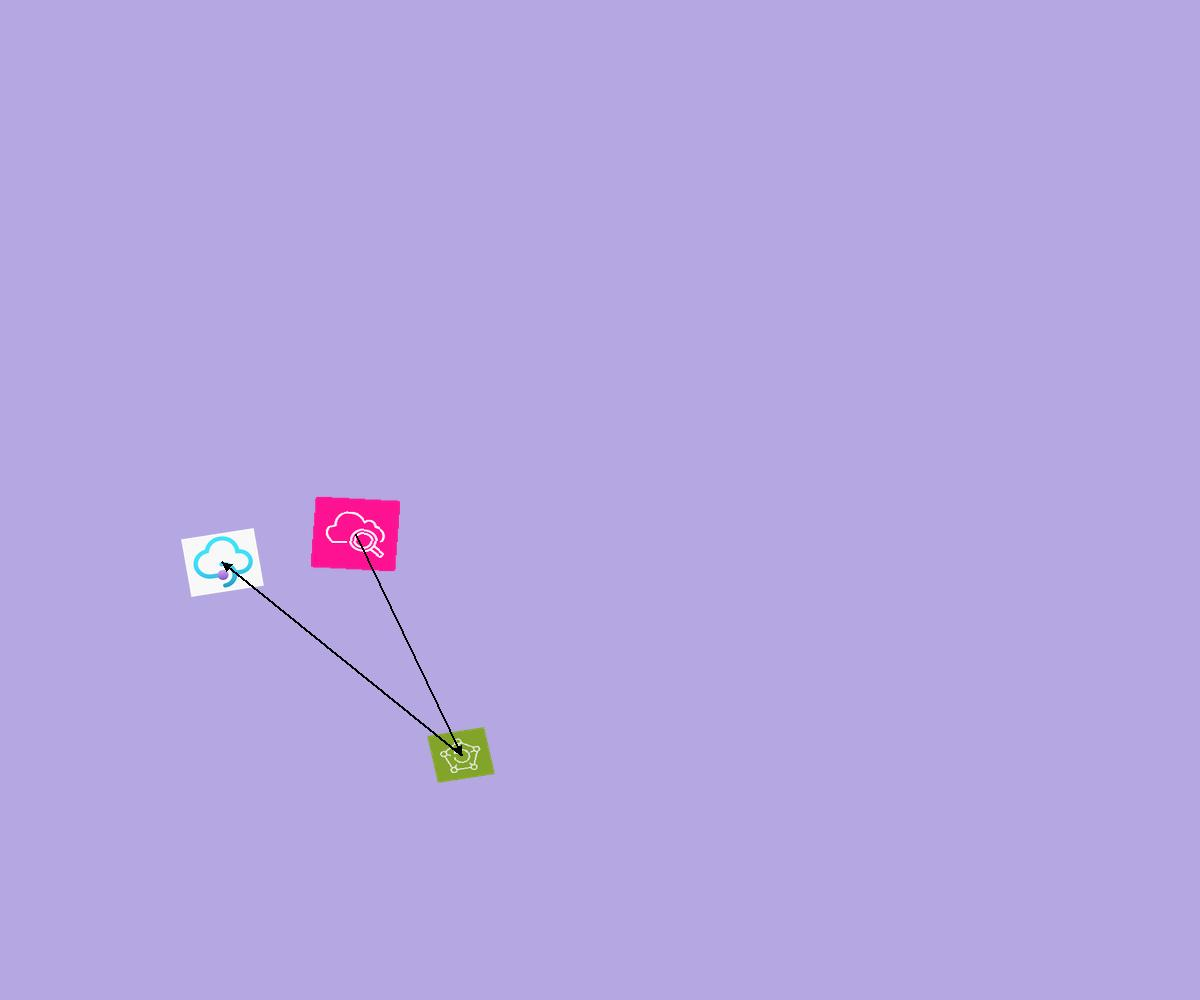AWS-Backup: (427, 727, 495, 783)
AWS-CloudWatch: (310, 496, 401, 572)
Azure_api_gateway: (181, 528, 264, 597)
